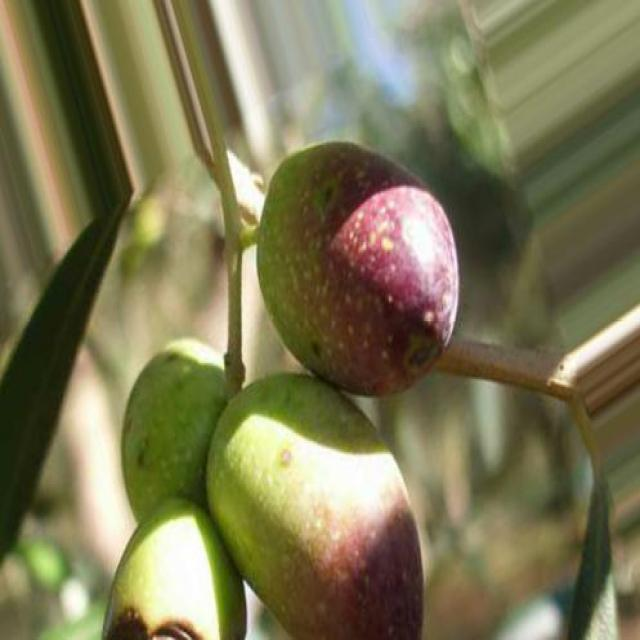Anthracnose: (259, 142, 460, 390), (102, 498, 244, 638)
